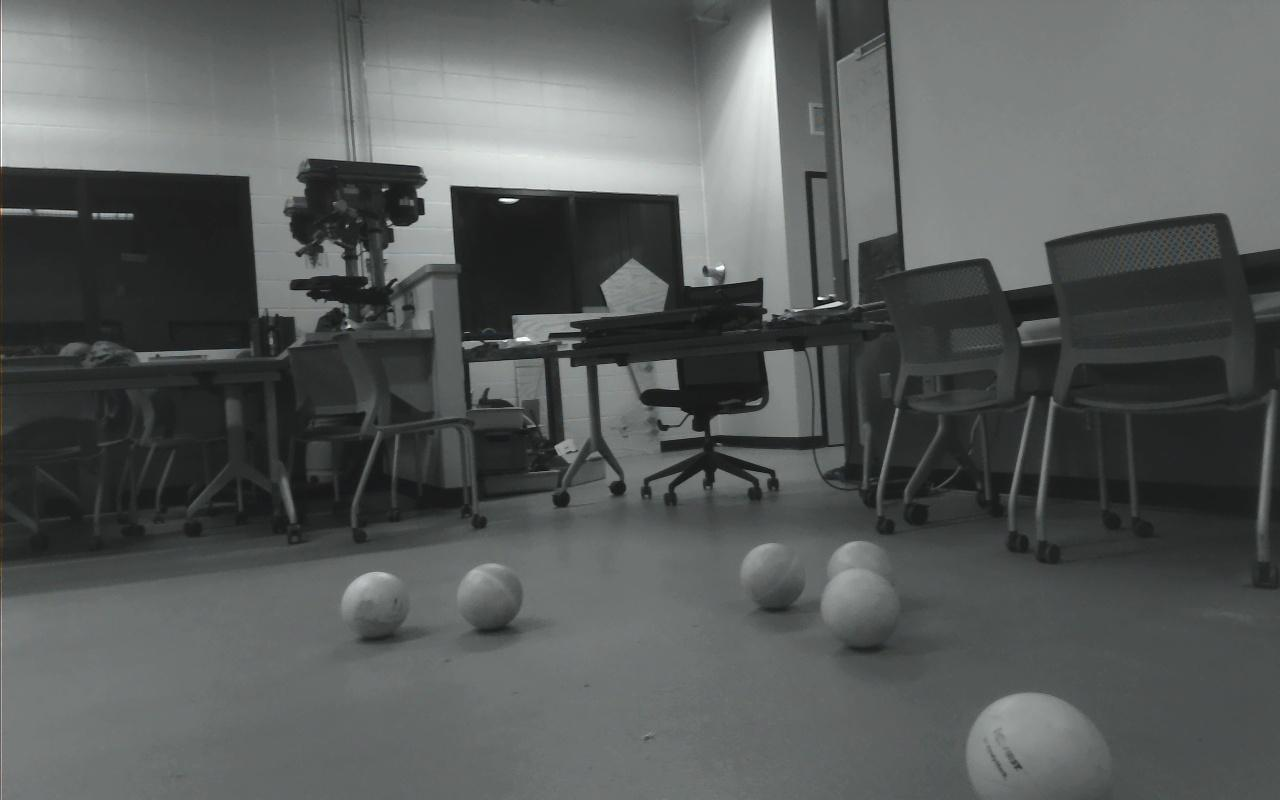Fuel: (964, 691, 1111, 800), (819, 567, 901, 650), (340, 570, 410, 640), (456, 562, 525, 631), (740, 542, 808, 611), (827, 539, 896, 590)
